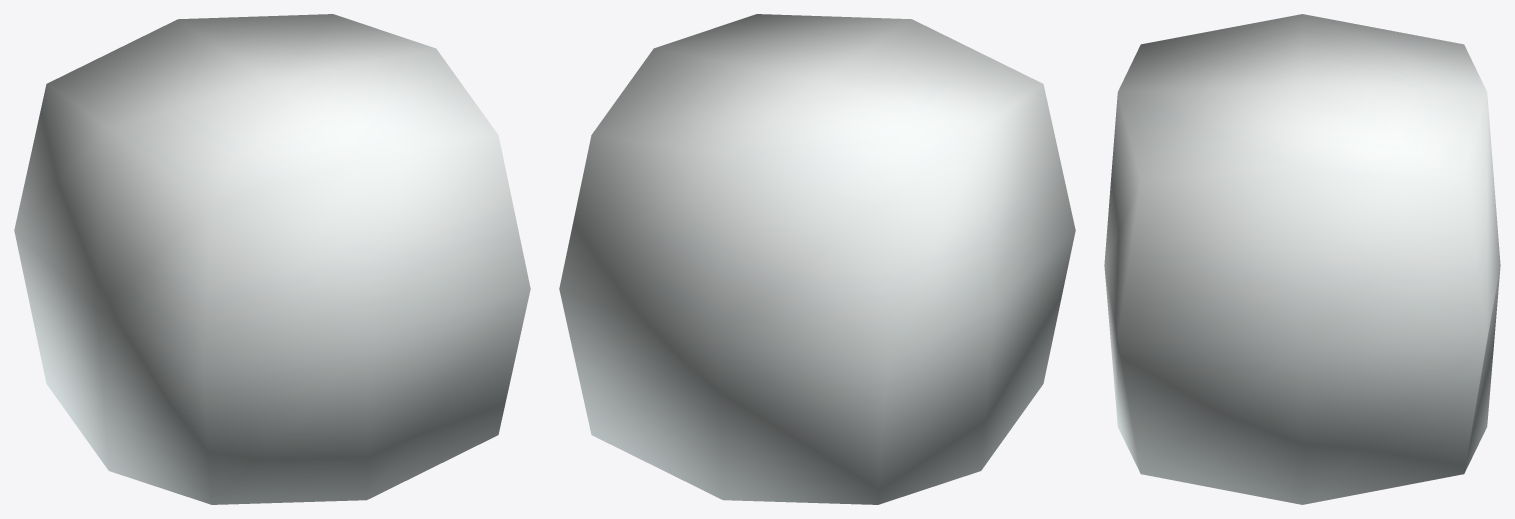
The model's file is ball_small_white.fbx.
The picture shows the model from 3 angles, left to right: view 1: azimuth 30°, elevation 25°; view 2: azimuth 150°, elevation 25°; view 3: azimuth 270°, elevation 25°; orthographic projection. The views are drawn at different scales.
Visible parts, largest first — view 1: ball_small_white; view 2: ball_small_white; view 3: ball_small_white.
Boxes of the visible parts, <box> form: ball_small_white: <box>14,14,530,504</box>; ball_small_white: <box>559,14,1075,504</box>; ball_small_white: <box>1104,14,1500,504</box>.
Size of the model in its own units: 24.5 by 23.26 by 24.5.
Materials: 1 (1 with a texture image).
